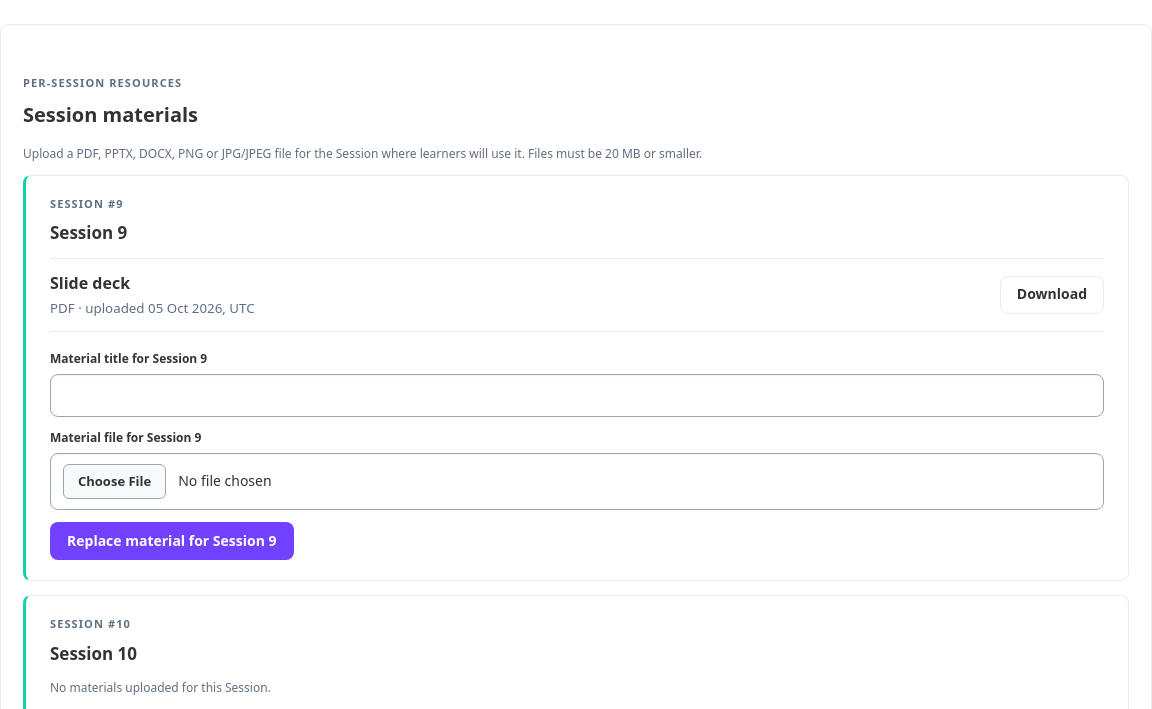
TrainerSessionMaterialsPanel › downloads a listed file and keeps the session list when the download fails
Click the button with aria-label "Download Slide deck" at (1052, 295), box 1000,276 -> 1104,314
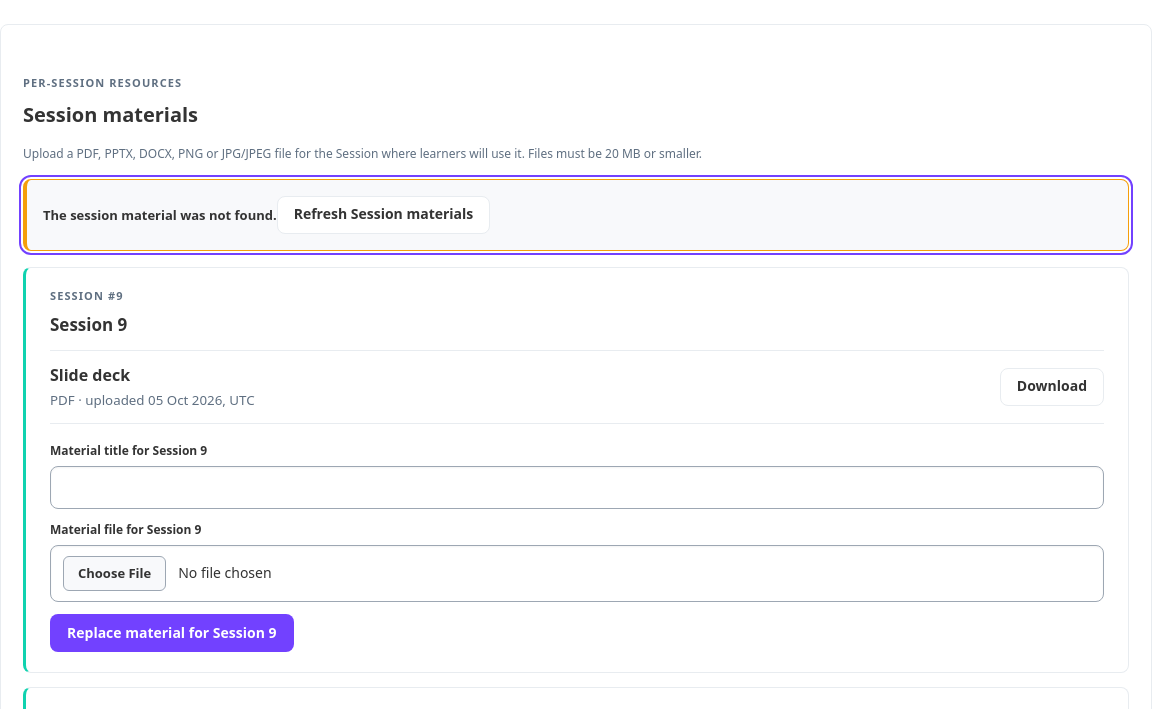
expect the text "Slide deck" is shown: met, box 50,364 -> 130,386
expect the message shows "The session material was not found.": met, box 43,205 -> 277,223
